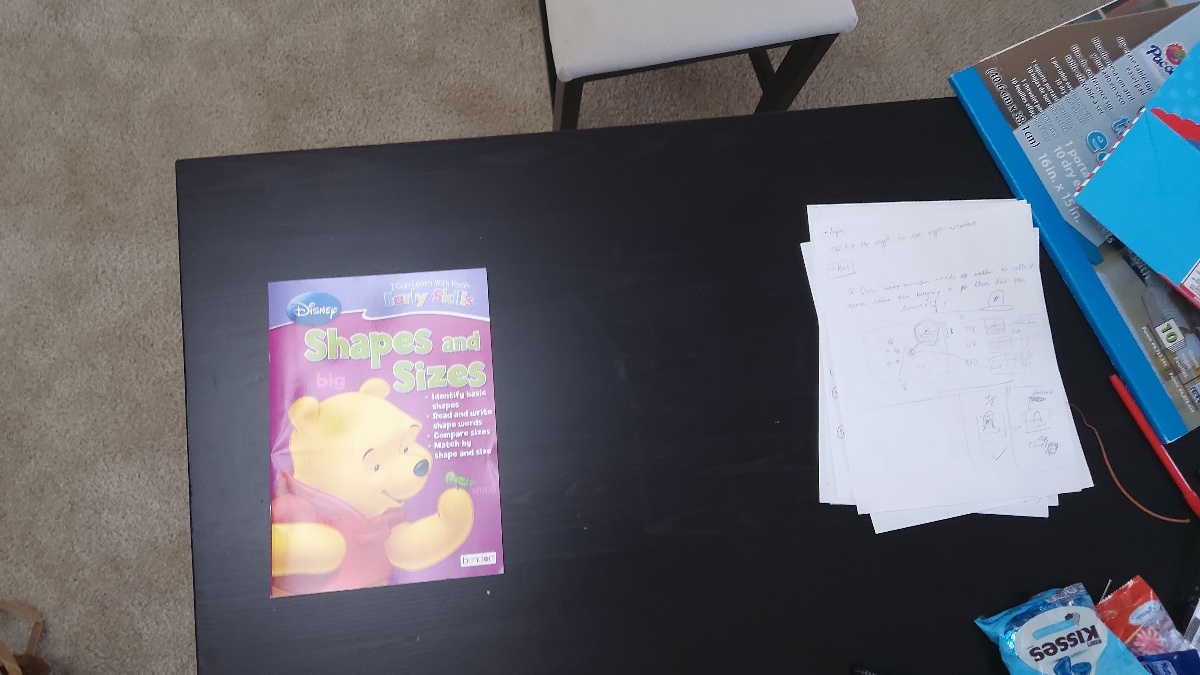book: (269, 284, 489, 577)
